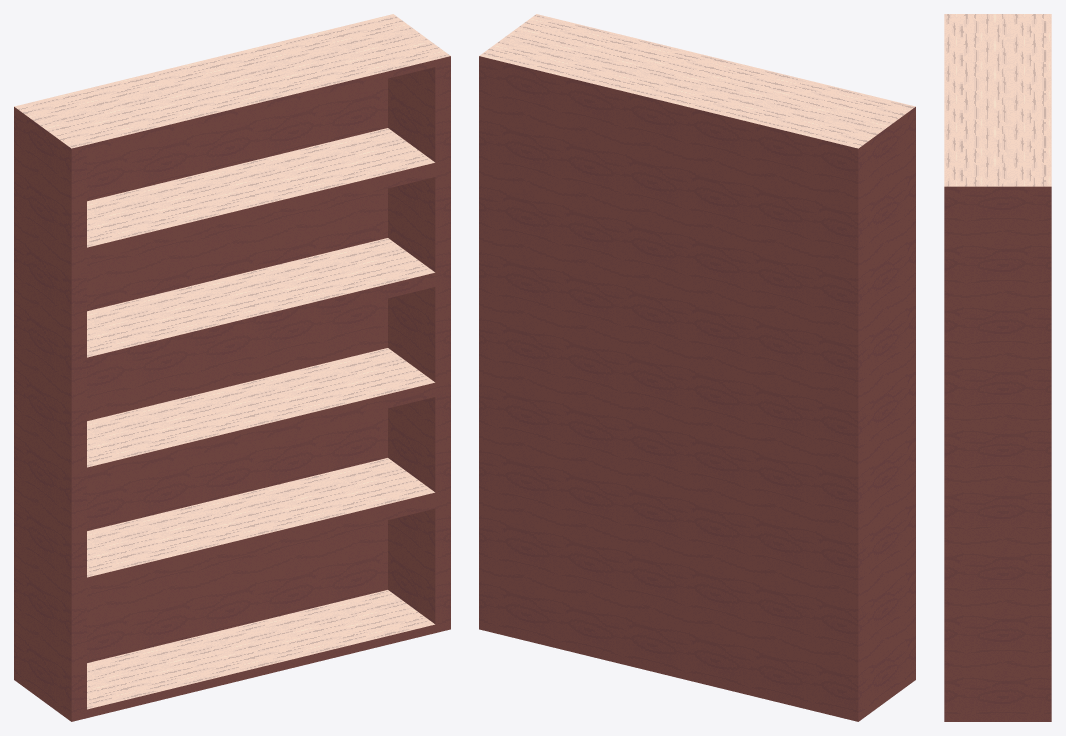
Rendered from bookshelf.glb.
3 renders of one model, left to right at view 1: azimuth 30°, elevation 25°; view 2: azimuth 150°, elevation 25°; view 3: azimuth 270°, elevation 25°, orthographic. The views are drawn at different scales.
Parts seen in each view (by area): view 1: bookCase; view 2: bookCase; view 3: bookCase.
Boxes of the visible parts, x1,y1,x2,y2 form: bookCase: (14,14,450,721); bookCase: (479,14,915,721); bookCase: (944,14,1051,721).
Bounding box in the file's own units: 1.5 × 2.17 × 0.394.
Materials: 2 (2 with a texture image).
